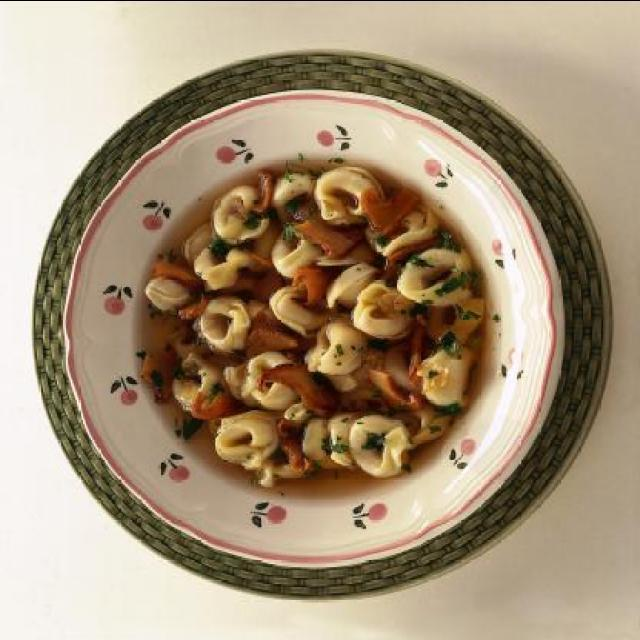Tortellini in broth: (130, 122, 502, 493)
